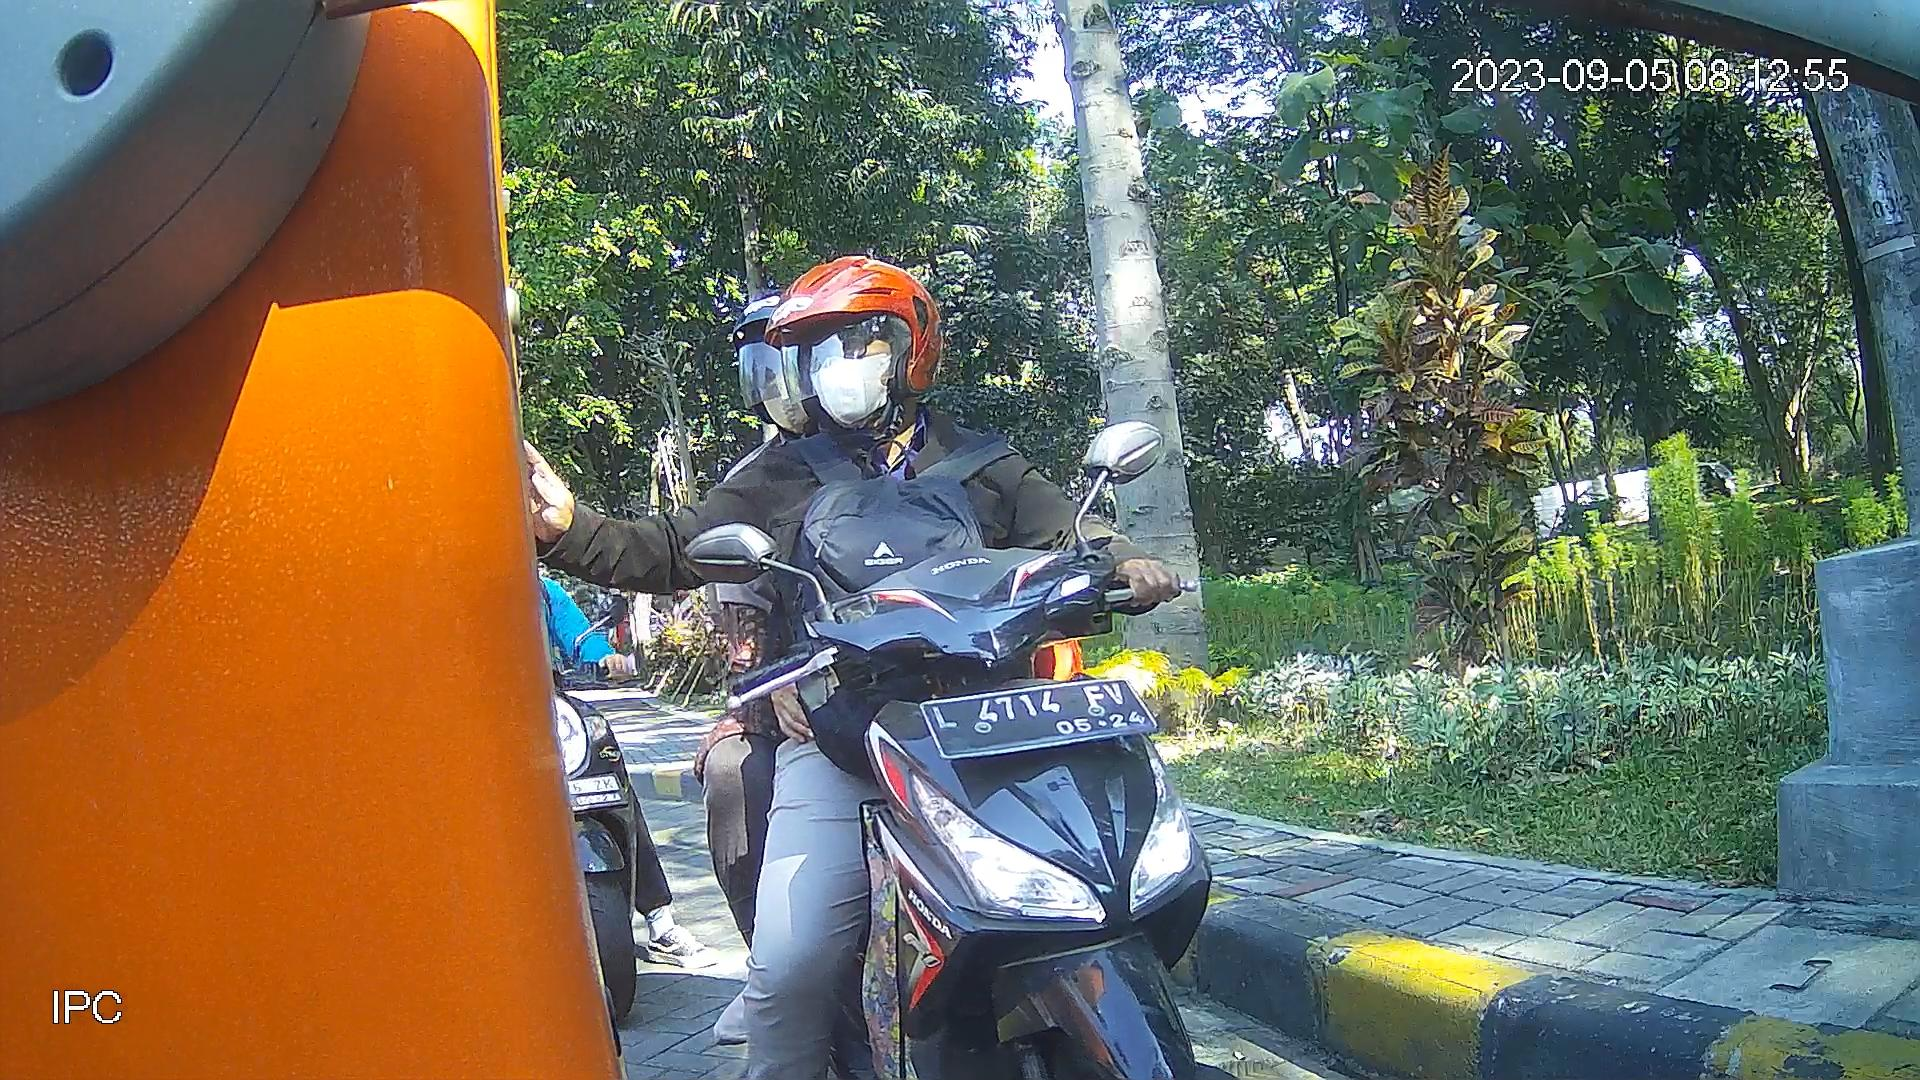plat: (918, 675, 1163, 762)
